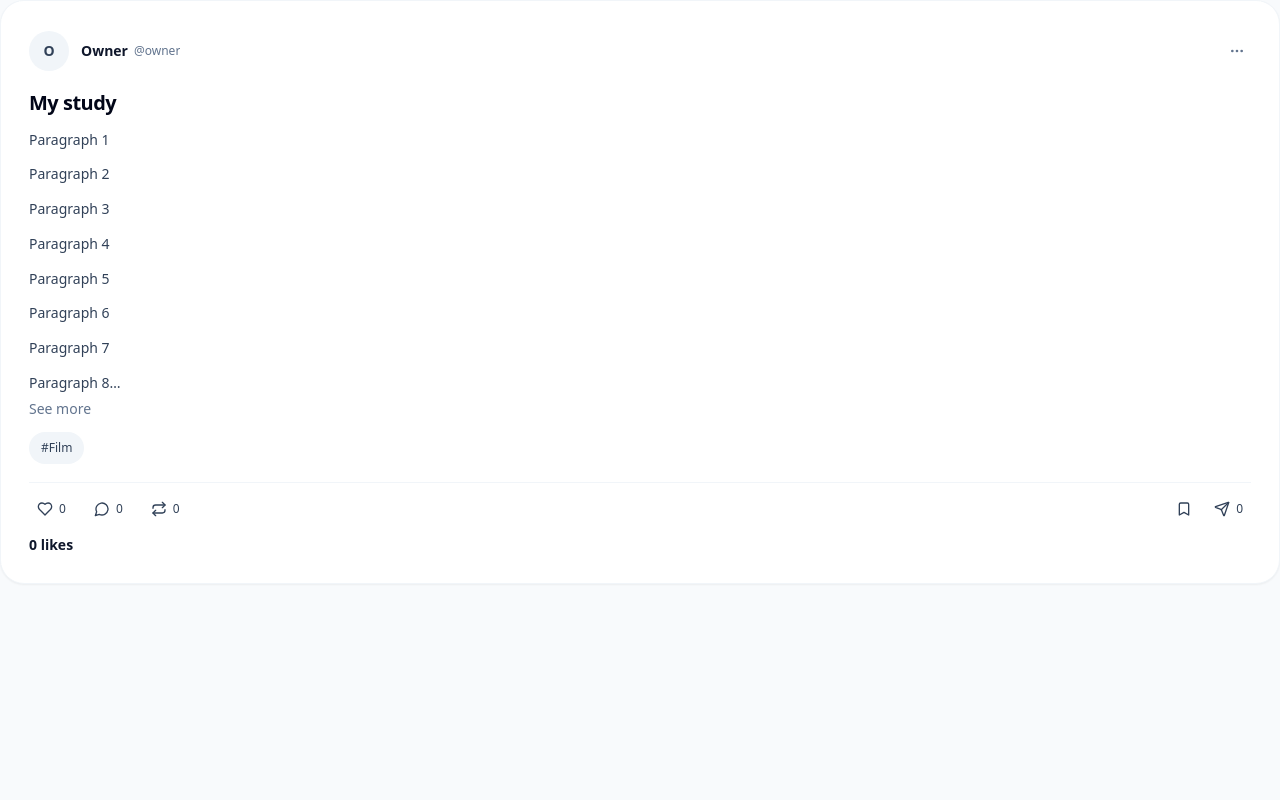
PostCard component › keeps line breaks and expands a long description with See more
Expected: the text "Paragraph 1" is shown, 29,130 -> 110,148
Expected: the text "Paragraph 2" is shown, 29,164 -> 110,183
Click the button "See more" at [60, 408], box 29,398 -> 91,418
(page scrolled)
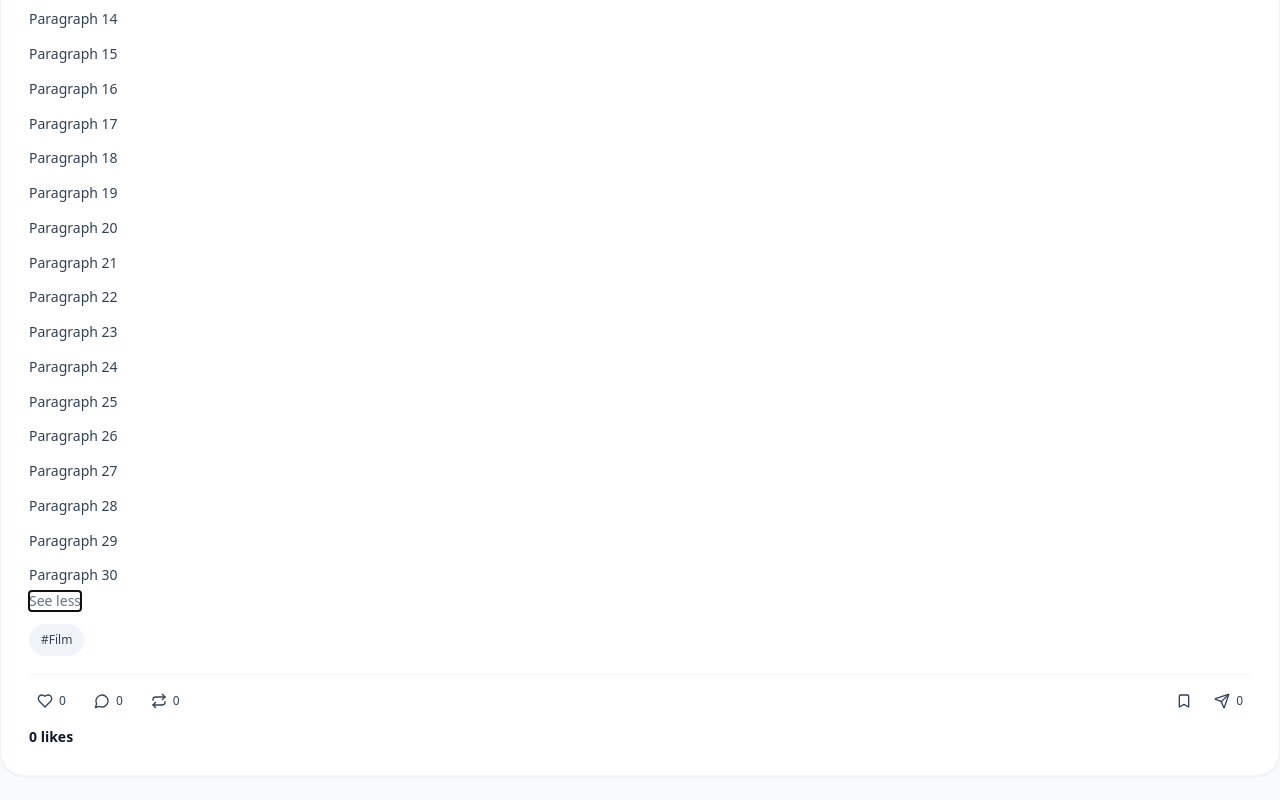
Expected: the button "See less" is expanded, 29,591 -> 81,611
